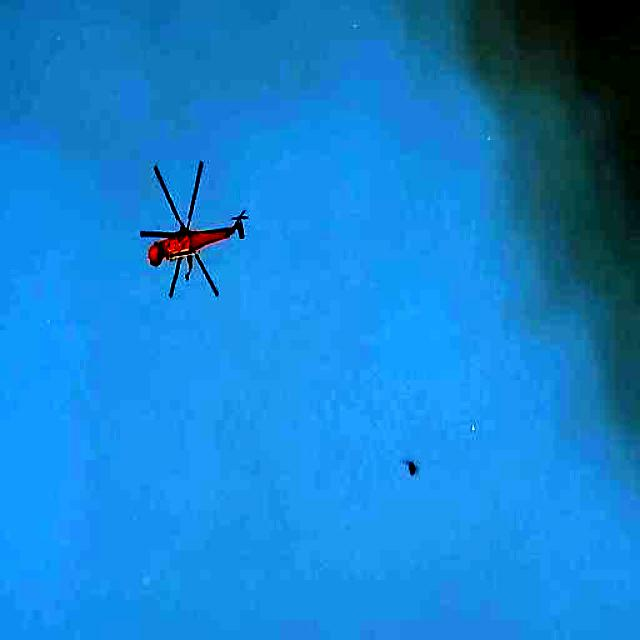drone: (129, 164, 255, 310)
